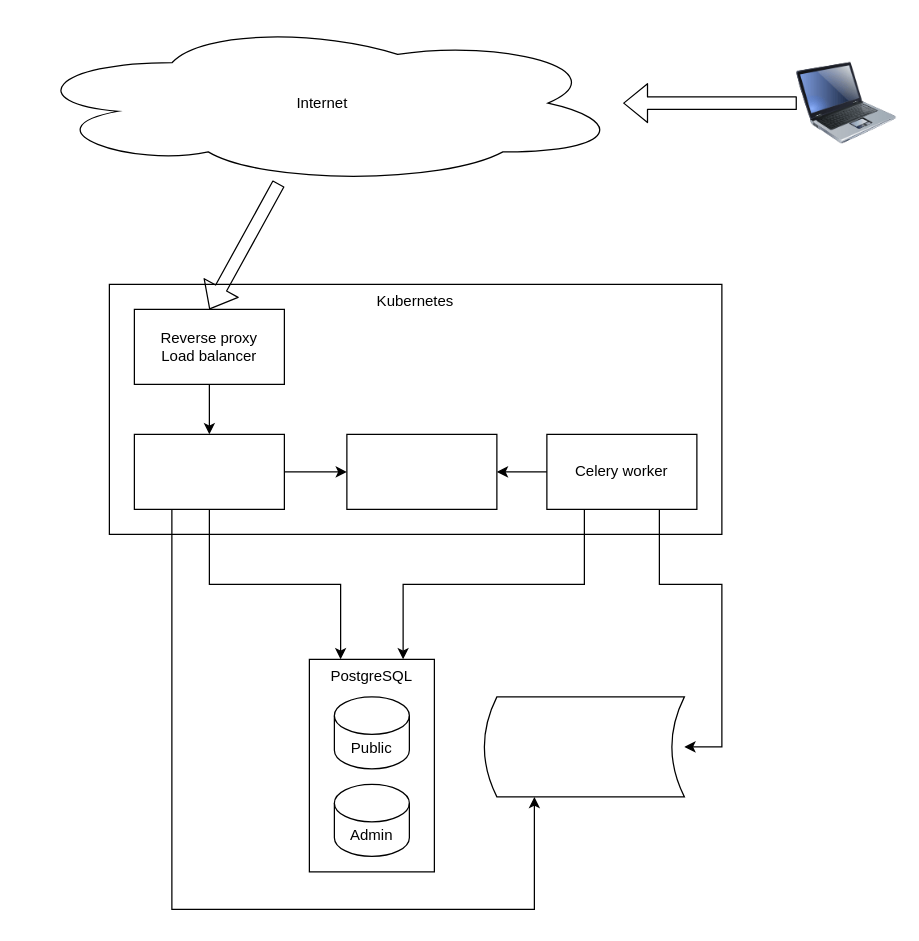
This 919x941 diagram has some shape labels left out. The centre of each missing label's shape, as x and y in pixels:
Redis Celery backend: point 421,471
S3 Publication Backups PDF: point 583,746
ThinkHazard Public and Admin WebApps: point 208,471
